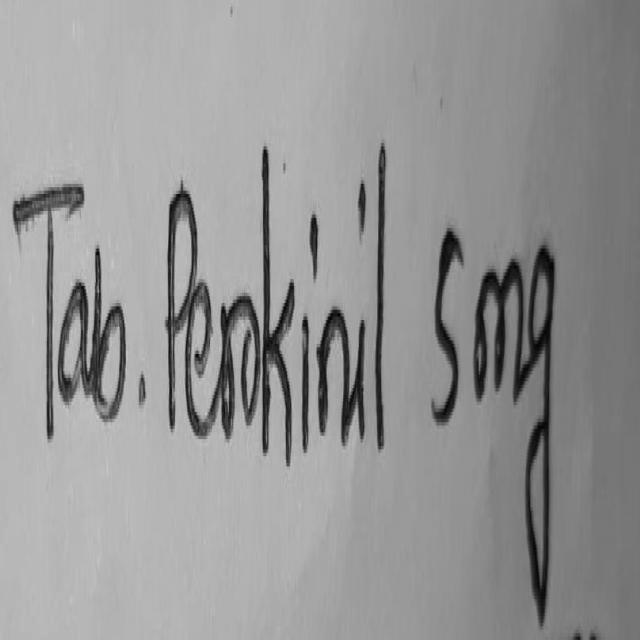5: (432, 228, 464, 420)
P: (168, 184, 197, 424)
T: (13, 186, 83, 434)
a: (58, 283, 90, 400)
b: (89, 245, 124, 417)
e: (185, 279, 221, 434)
g: (527, 245, 555, 621)
i: (342, 317, 365, 446), (303, 313, 309, 448), (310, 211, 318, 274), (359, 177, 366, 233)
k: (262, 143, 295, 461)
l: (376, 140, 387, 444)
m: (474, 259, 524, 398)
n: (317, 306, 352, 441)
r: (221, 293, 261, 436)
